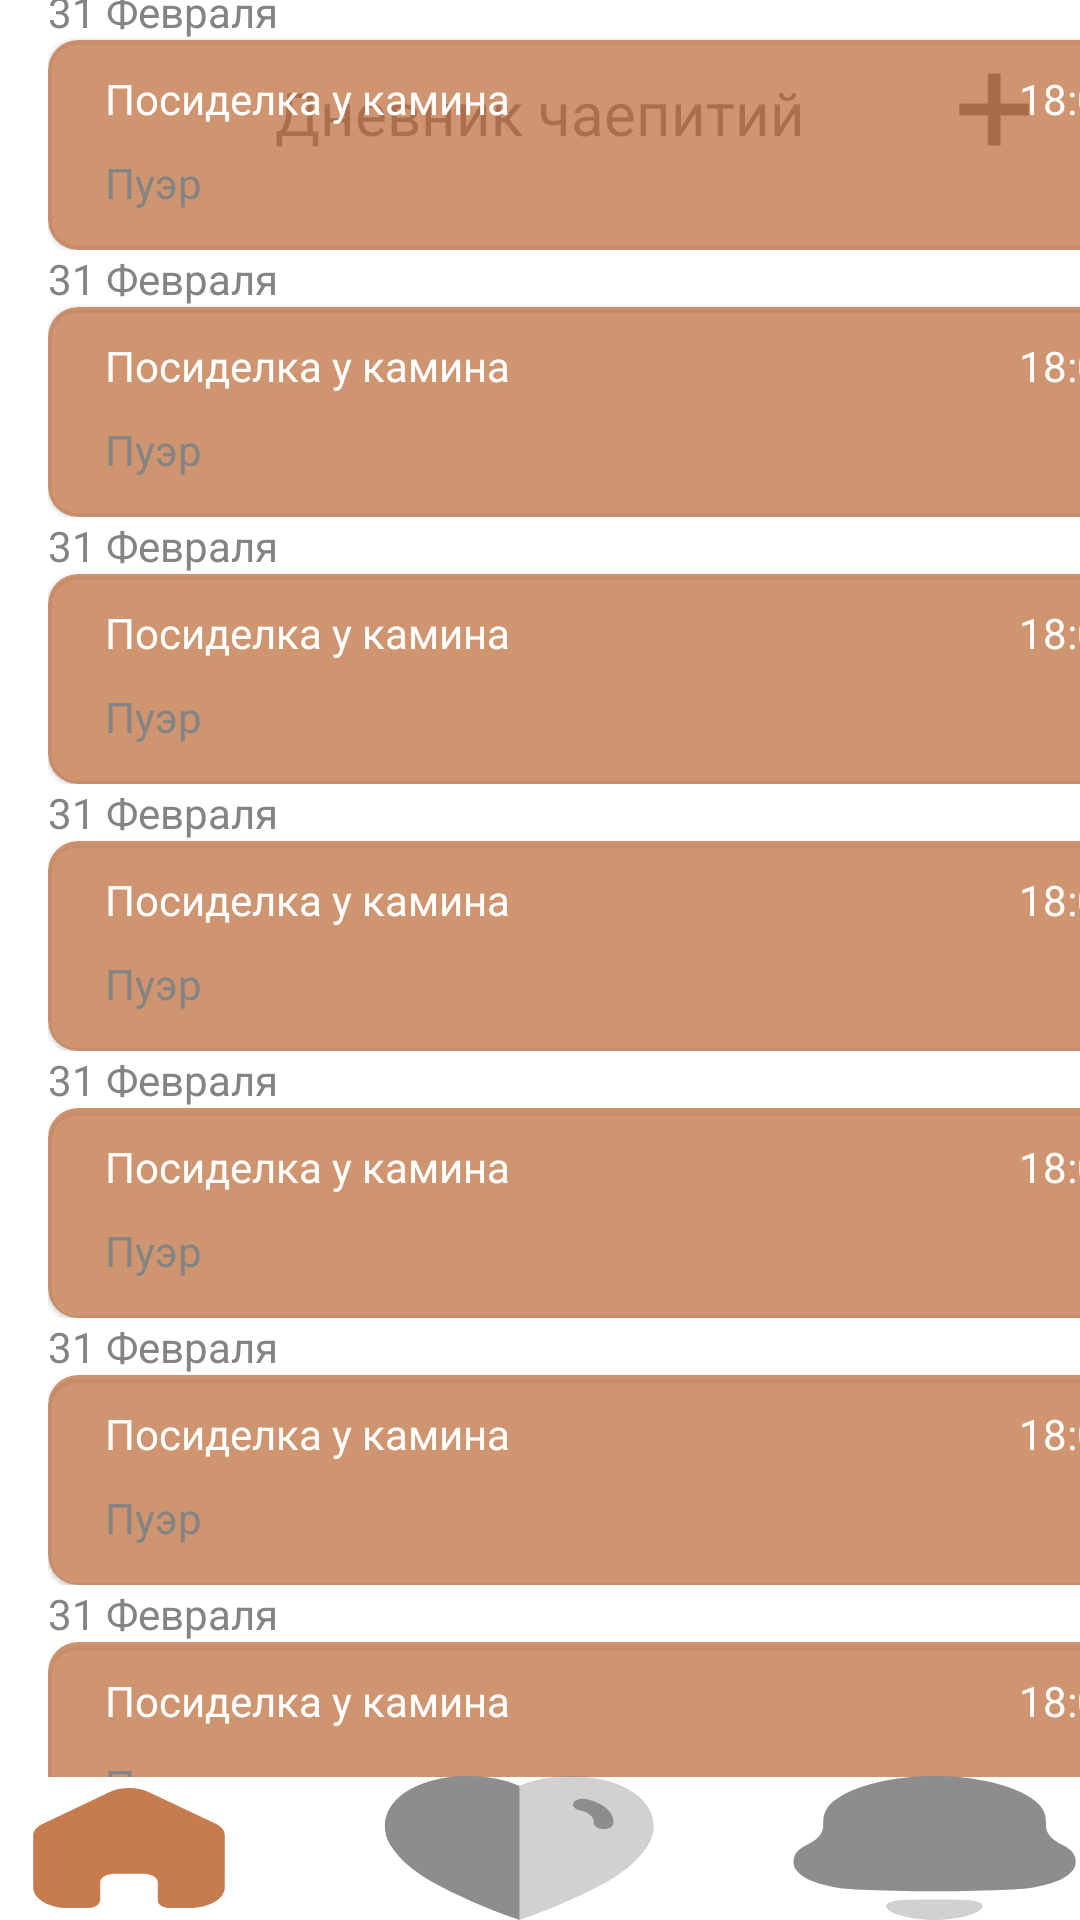

Icon click points for this 1080×1920 phone screenshot, format (x,y):
heart menu: (519,1848)
home: (126,1848)
plus: (995,109)
